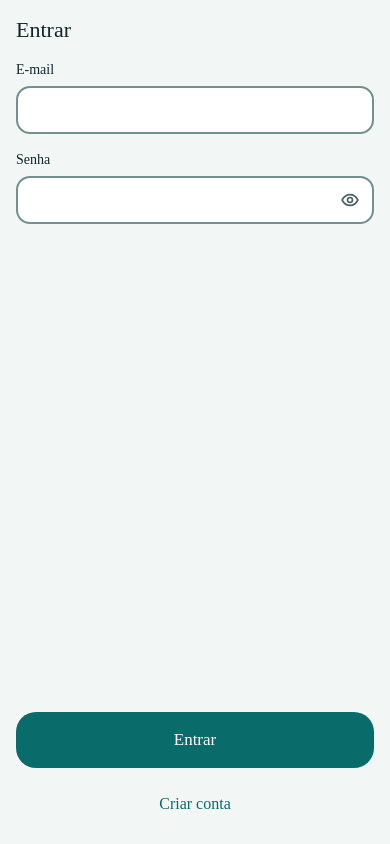
it: 1.3 Login › mostra "E-mail ou senha incorretos" quando a API recusa
This screenshot has width=390, height=844.
Type "lucas@email.com" into the field named "E-mail" at (195, 110), box [16,86,374,134]
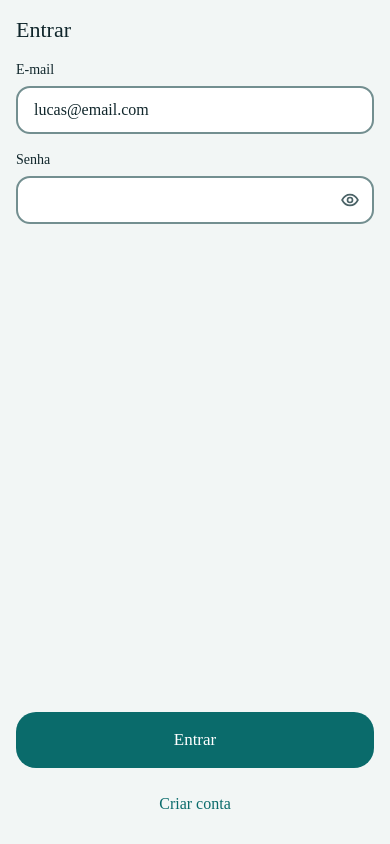
Type "errada123" into the password field named "Senha" at (195, 200), box [16,176,374,224]
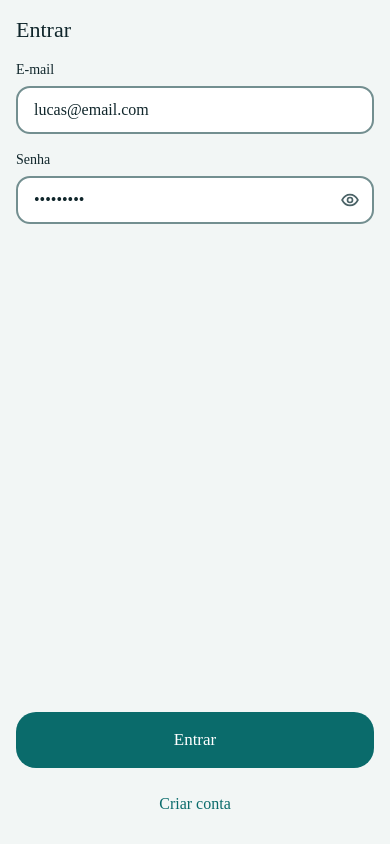
Click the button with test id "botao-entrar" at (195, 740), box [16,712,374,768]
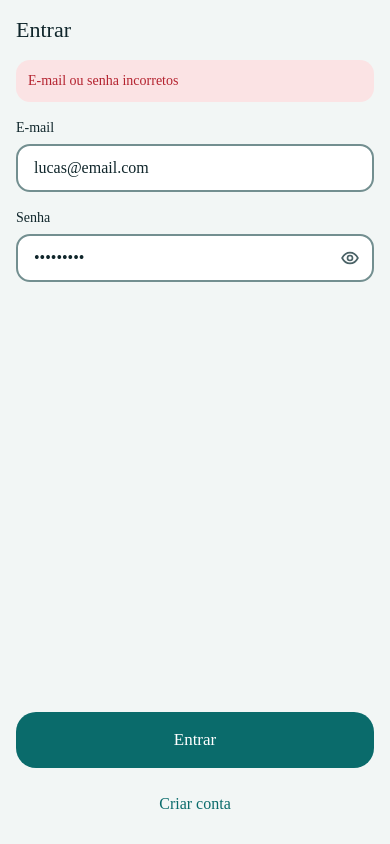
Expected: the text "E-mail ou senha incorretos" is shown, [28,73,178,88]
